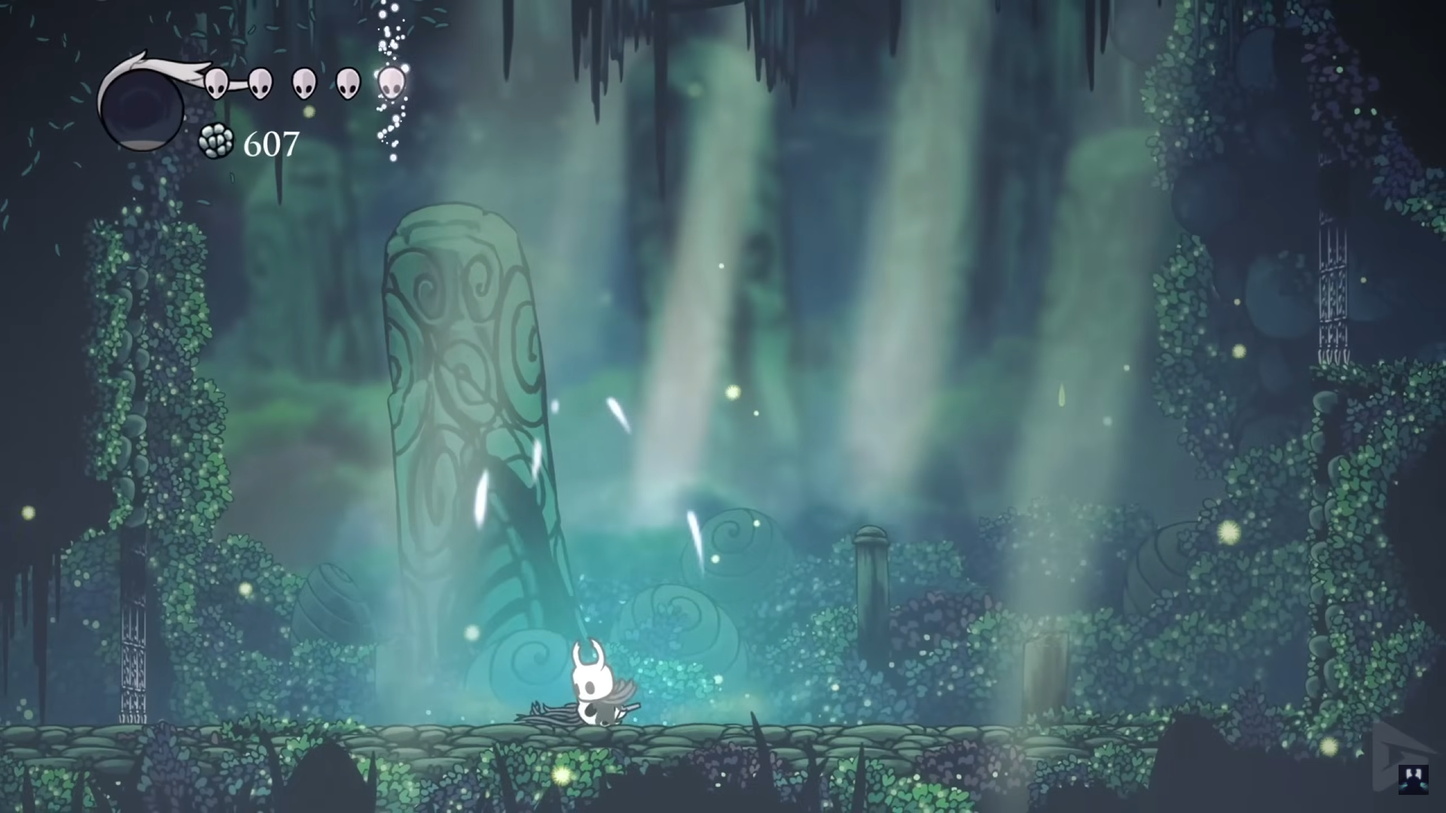HK: (565, 640, 631, 734)
